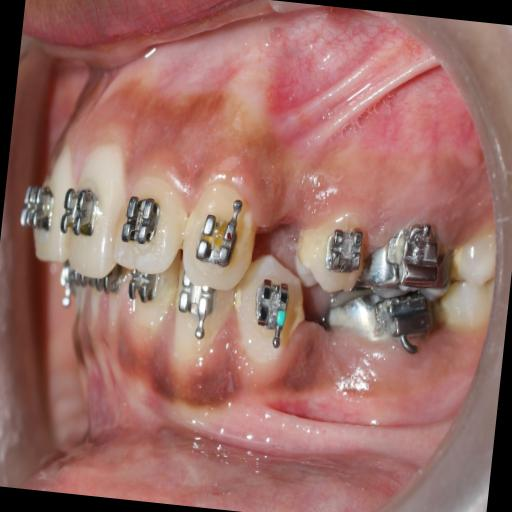correct_brace: (290, 206, 366, 296), (58, 179, 106, 244), (194, 213, 244, 269), (121, 189, 164, 250)
incorrect_brace: (114, 165, 190, 273), (324, 219, 366, 280)
